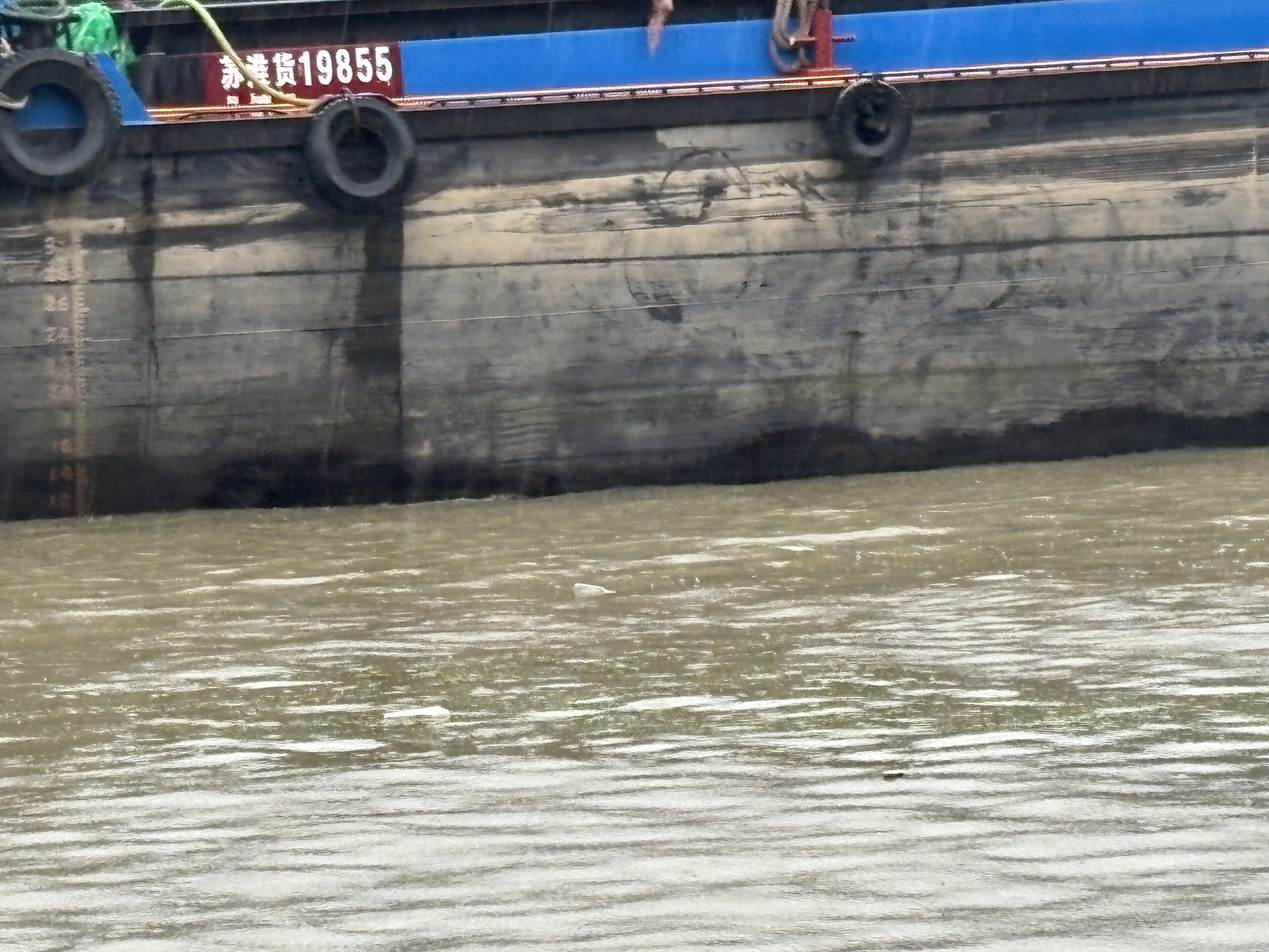Plastic wastes: (379, 704, 454, 720), (573, 579, 611, 597), (879, 763, 900, 776)
